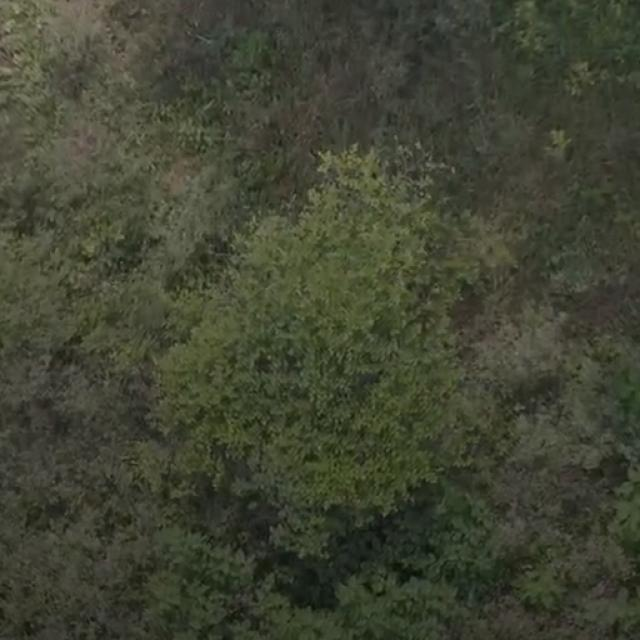notMangoTree: (134, 151, 493, 571)
